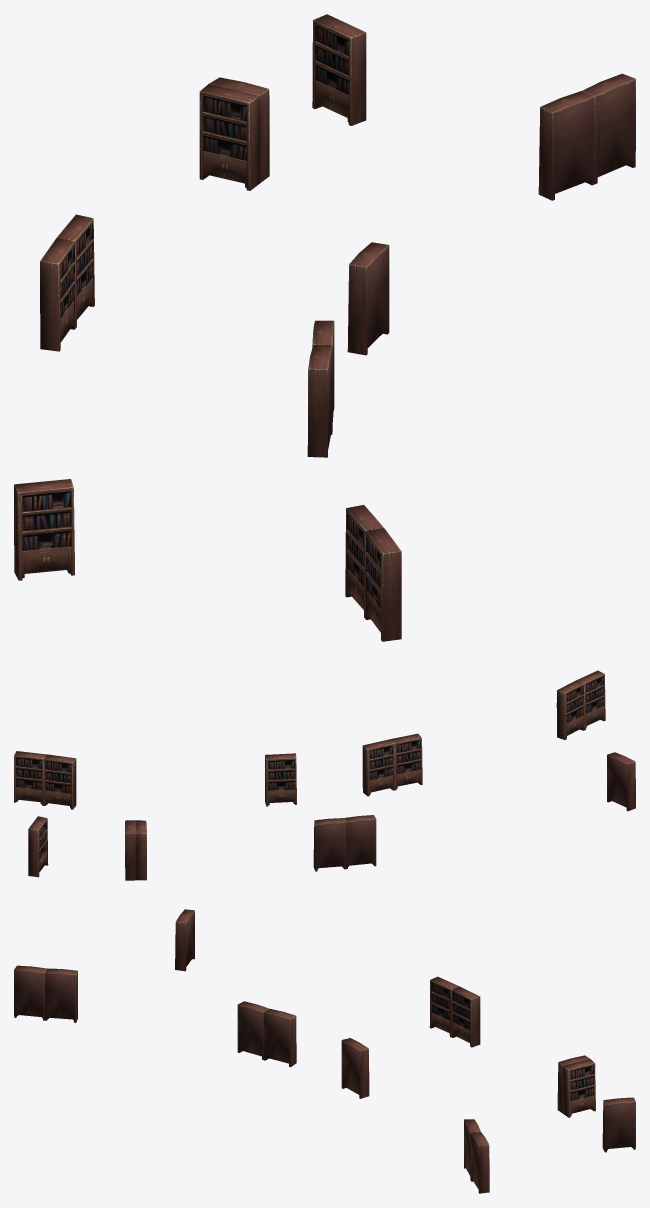
The model's file is wujian68.fbx.
3 views of the same model, one above another, from view 1: azimuth 30°, elevation 25°; view 2: azimuth 150°, elevation 25°; view 3: azimuth 270°, elevation 25° (orthographic). The views are drawn at different scales.
Parts seen in each view (by area): view 1: wujian68; view 2: wujian68; view 3: wujian68.
Boxes of the visible parts, bbox=[...] form: wujian68: bbox=[14, 14, 635, 641]; wujian68: bbox=[14, 670, 635, 880]; wujian68: bbox=[14, 909, 635, 1193].
Bounding box in the file's own units: 4129 × 392 × 4587.
1 material, 1 textured.
